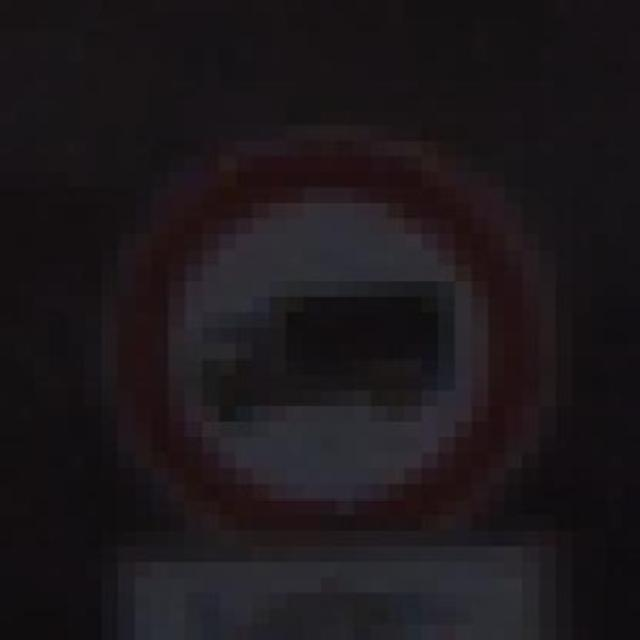Truck traffic is prohibited: (84, 109, 573, 562)
